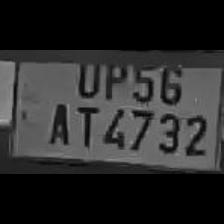2: (180, 110, 208, 156)
3: (153, 108, 181, 154)
4: (99, 102, 127, 150)
5: (128, 58, 156, 102)
6: (155, 62, 183, 104)
7: (126, 105, 150, 151)
A: (41, 97, 71, 146)
P: (100, 54, 128, 100)
T: (72, 100, 98, 146)
U: (71, 52, 101, 96)
